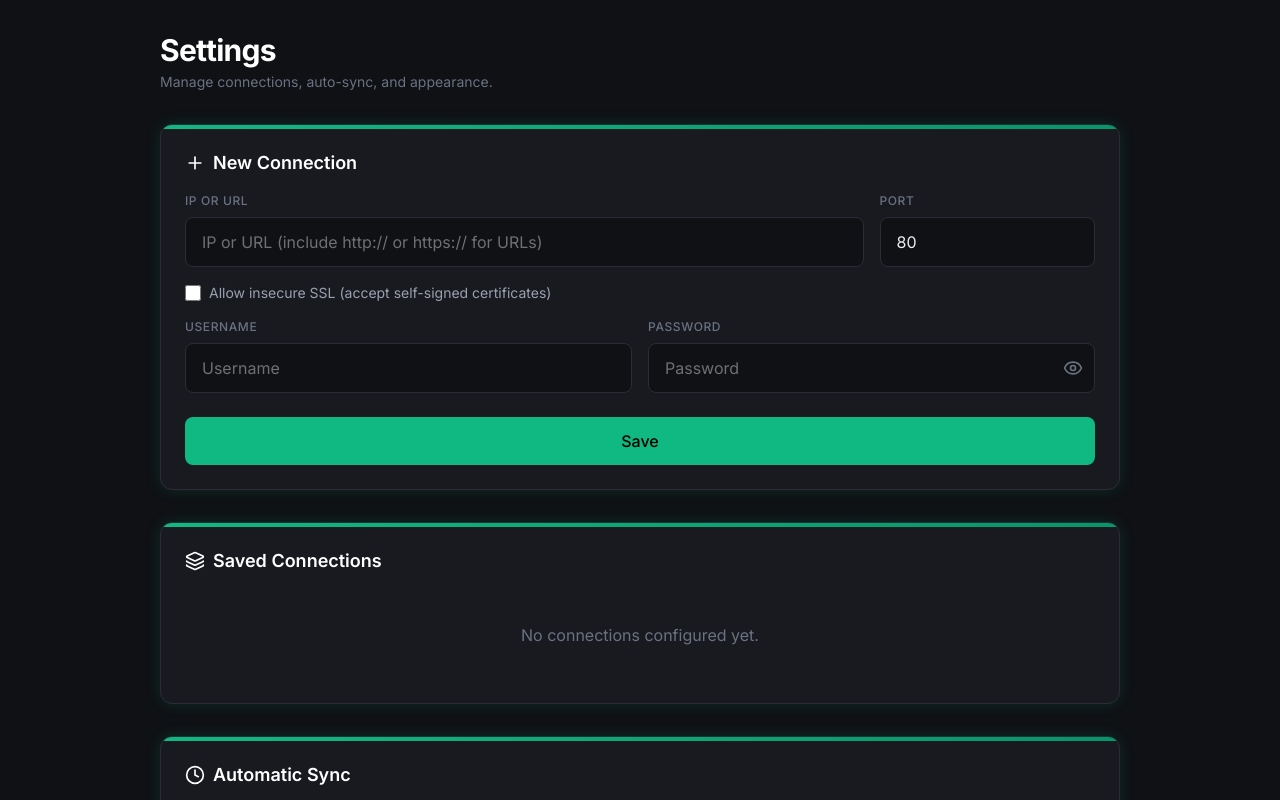
Test case: Settings › handles URL parsing in form input
In the field with placeholder "IP or URL (include http:// or https:// for URLs)": (524, 242) [185,217,864,267], type "https://adguard.example.com"
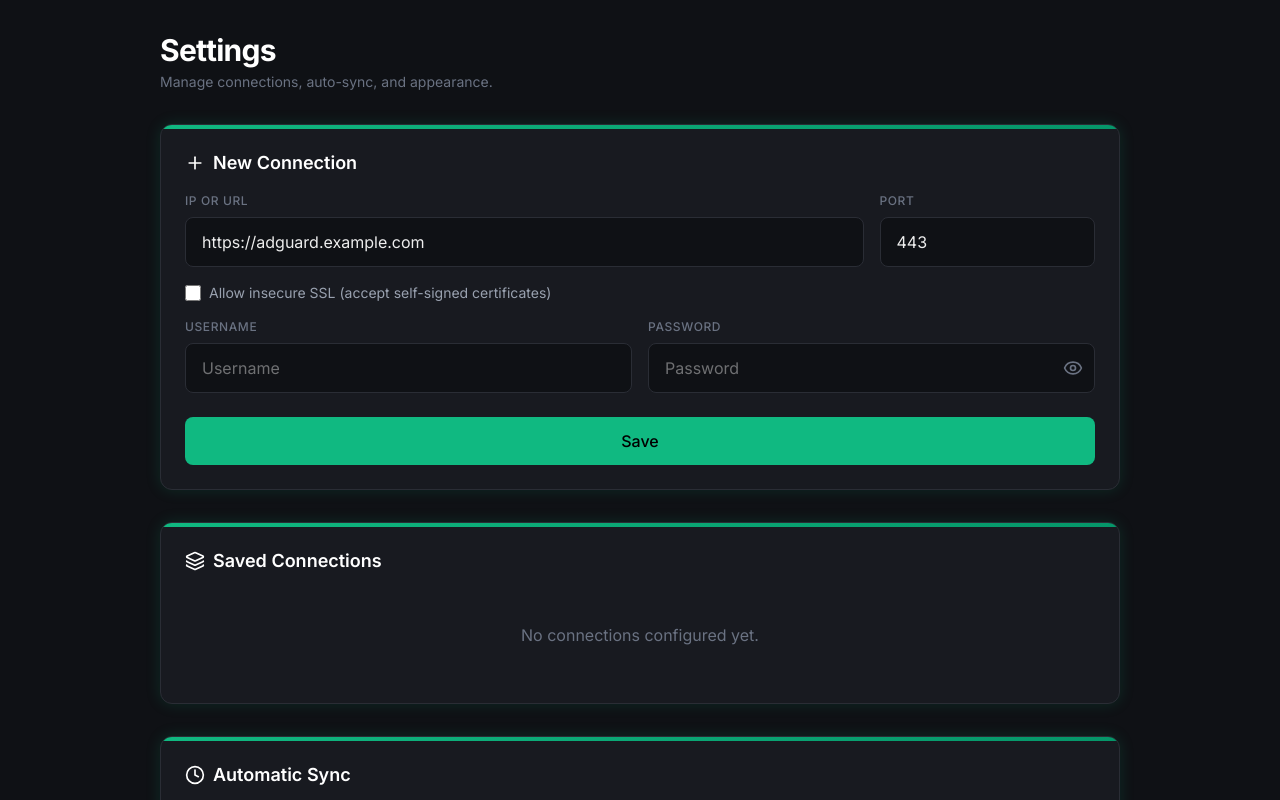
Now the number field with placeholder "Port" holds "443", box [880,217,1095,267]
Replace the text in the field with placeholder "IP or URL (include http:// or https:// for URLs)" with "http://adguard.example.com": (524, 242) [185,217,864,267]
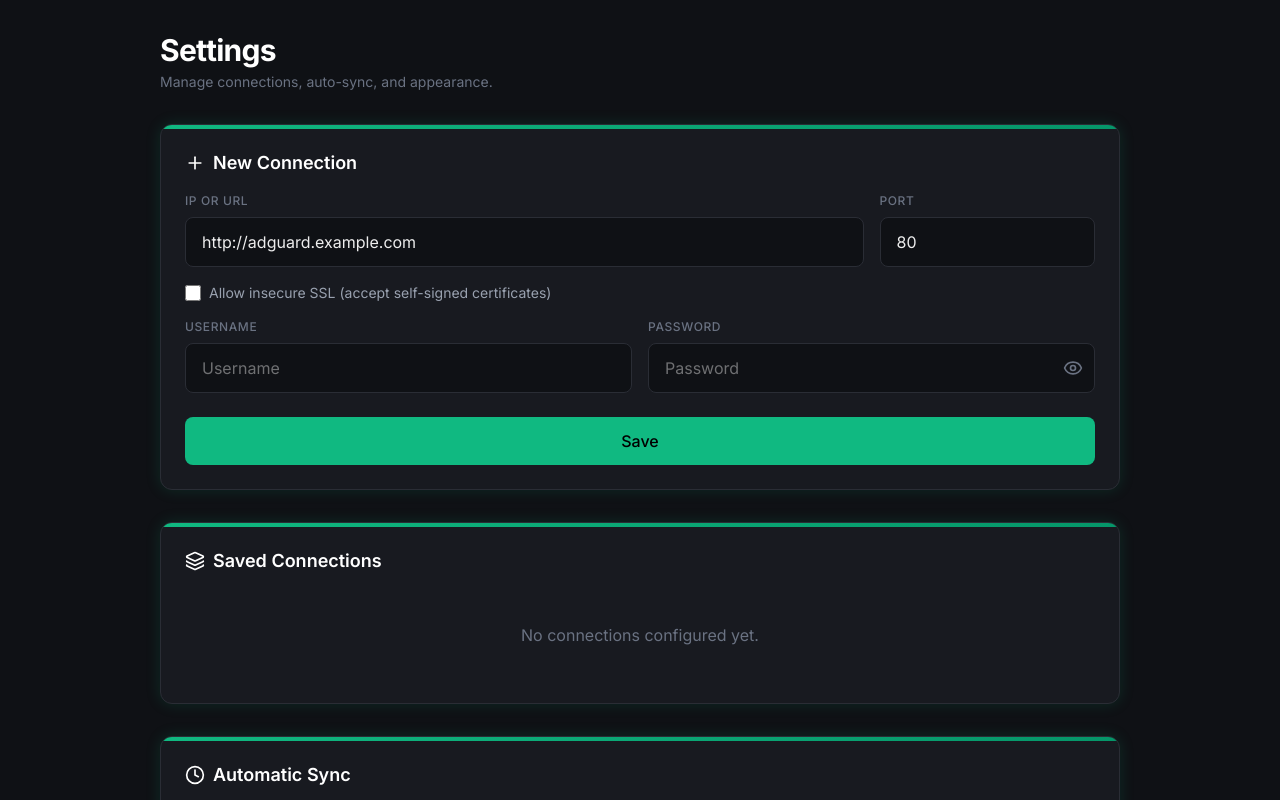
Now the number field with placeholder "Port" holds "80", box [880,217,1095,267]
Note: Test URL with custom port
Replace the text in the field with placeholder "IP or URL (include http:// or https:// for URLs)" with "https://adguard.example.com:8443": (524, 242) [185,217,864,267]
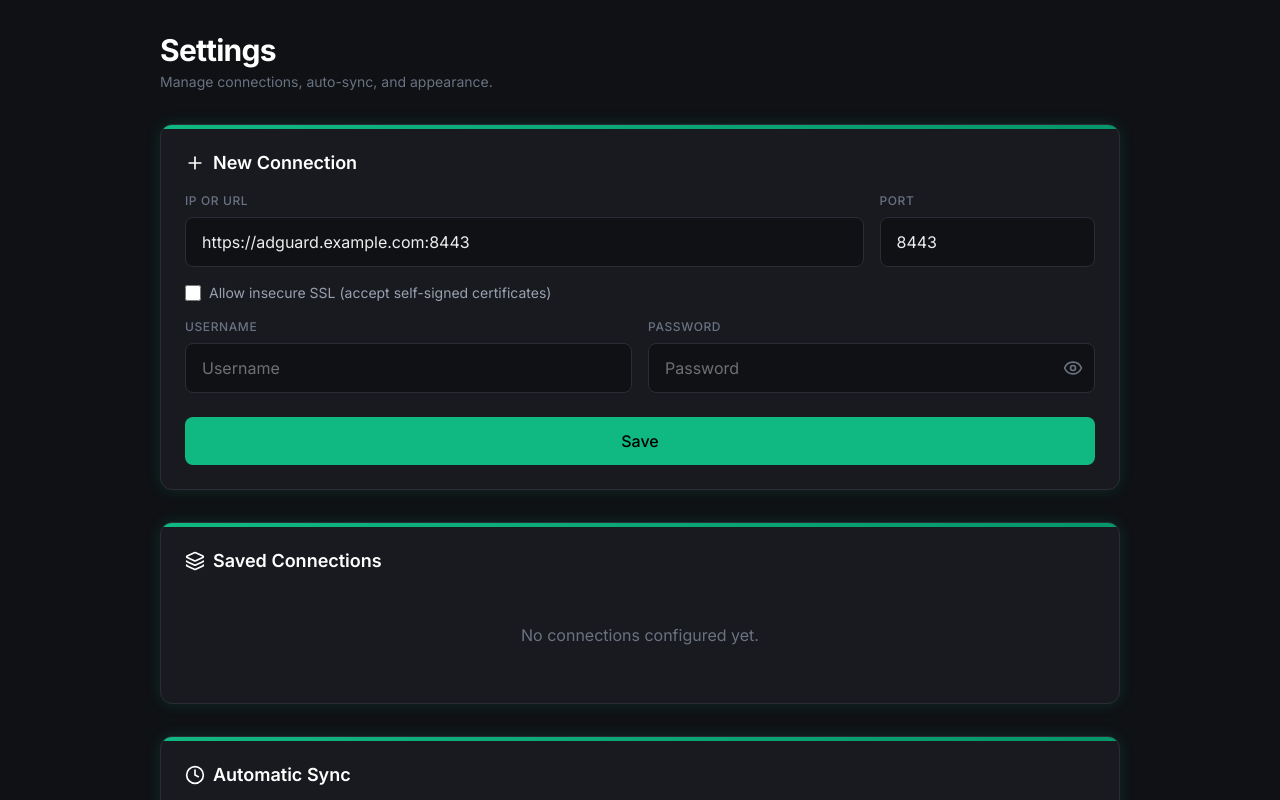
Now the number field with placeholder "Port" holds "8443", box [880,217,1095,267]
